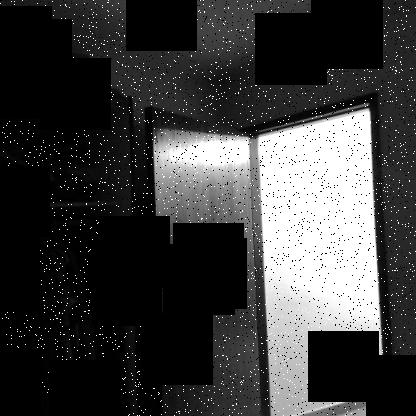Porte: (140, 88, 397, 416)
